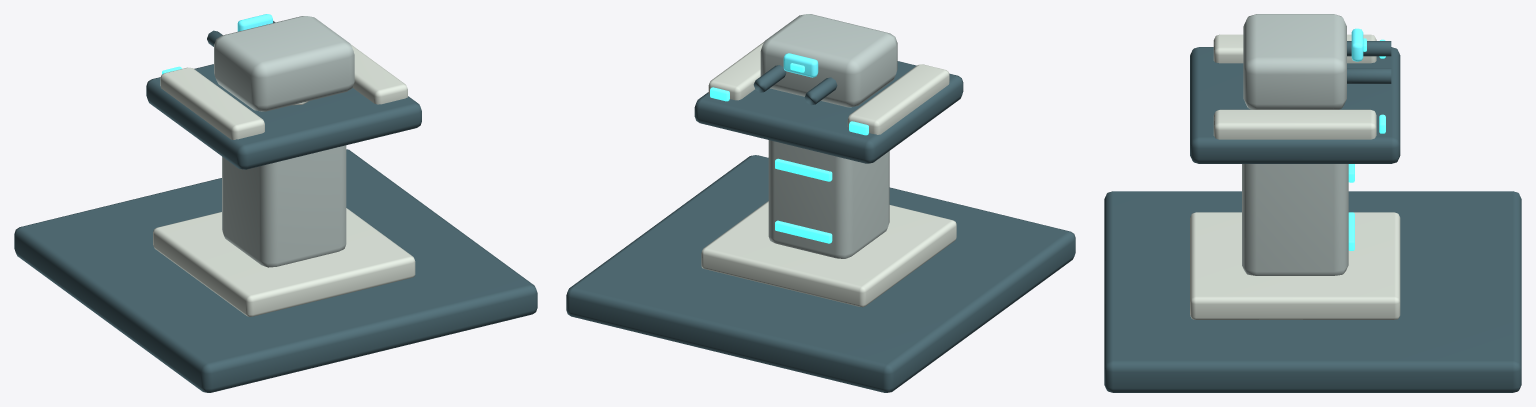
File: aegis-watchtower.glb
3 views of the same model, side by side, from view 1: azimuth 30°, elevation 25°; view 2: azimuth 150°, elevation 25°; view 3: azimuth 270°, elevation 25° (orthographic). The views are drawn at different scales.
Parts seen in each view (by area): view 1: Watchtower foundation, Reinforced tower foot, Armored tower shaft, Watch platform, Watch head, Platform armor wing, Platform armor wing.001; view 2: Watchtower foundation, Reinforced tower foot, Armored tower shaft, Watch platform, Watch head, Platform armor wing, Platform armor wing.001, Shaft accent band.001, Shaft accent band, Watch optic, Watch cannon, Watch cannon.001; view 3: Watchtower foundation, Reinforced tower foot, Armored tower shaft, Watch platform, Watch head, Platform armor wing.001, Platform armor wing, Watch cannon.001, Watch cannon, Watch optic.
Part boxes in pixels (box(x1,y1,x2,y2)): Watchtower foundation: box(14, 149, 537, 392); Reinforced tower foot: box(153, 208, 415, 316); Armored tower shaft: box(222, 145, 346, 267); Watch platform: box(146, 64, 421, 169); Watch head: box(214, 16, 354, 111); Platform armor wing: box(160, 67, 264, 139); Platform armor wing.001: box(351, 44, 407, 104); Watchtower foundation: box(566, 155, 1075, 392); Reinforced tower foot: box(701, 201, 956, 307); Armored tower shaft: box(768, 140, 889, 258); Watch platform: box(694, 61, 963, 163); Watch head: box(760, 14, 897, 107); Platform armor wing: box(847, 64, 949, 134); Platform armor wing.001: box(708, 41, 764, 100); Shaft accent band.001: box(775, 158, 832, 181); Shaft accent band: box(775, 220, 832, 243); Watch optic: box(783, 53, 818, 77); Watch cannon: box(804, 77, 837, 105); Watch cannon.001: box(753, 65, 786, 92); Watchtower foundation: box(1104, 191, 1521, 392); Reinforced tower foot: box(1190, 212, 1400, 319); Armored tower shaft: box(1242, 164, 1348, 275); Watch platform: box(1190, 47, 1400, 163); Watch head: box(1243, 14, 1346, 109); Platform armor wing.001: box(1213, 109, 1376, 139); Platform armor wing: box(1213, 34, 1376, 63); Watch cannon.001: box(1347, 68, 1391, 83); Watch cannon: box(1347, 41, 1391, 56); Watch optic: box(1351, 28, 1363, 61).
Bounding box in the file's own units: 2.82 × 2.03 × 2.82.
